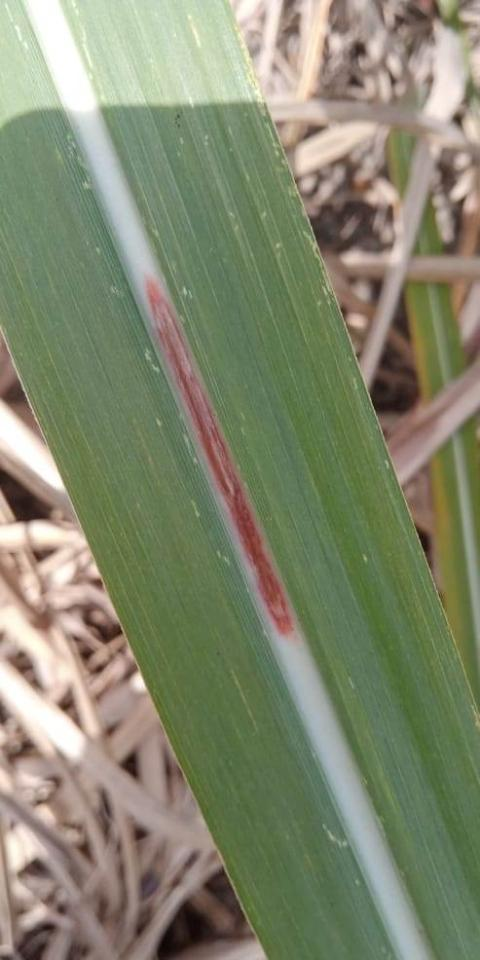RedRot: (148, 271, 302, 645)
